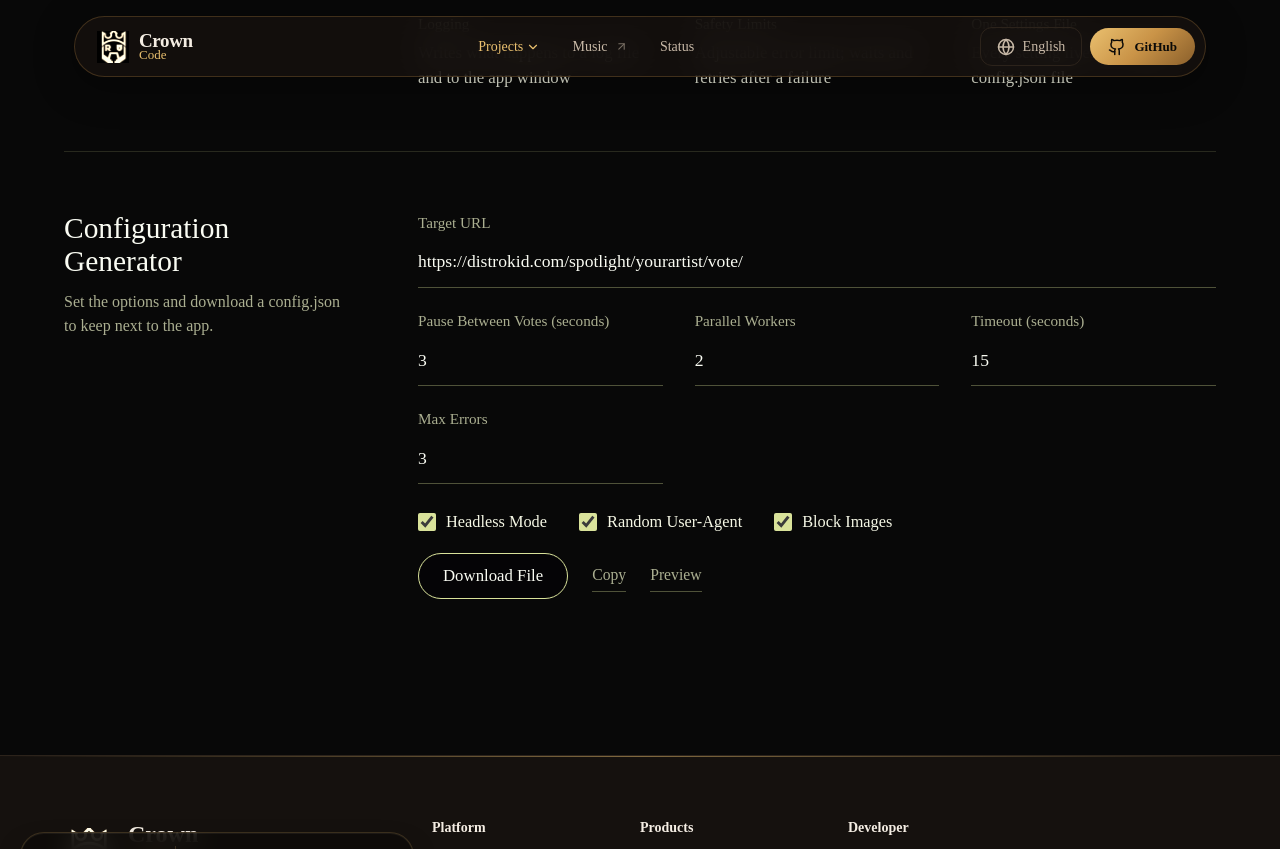
Scenario: Crown Vote page › will not offer a config for an address that is not a URL
(page scrolled)
Replace the text in the field labelled "Target URL" with "not a url" at coordinates (817, 264), box [418, 240, 1216, 288]
(page scrolled)
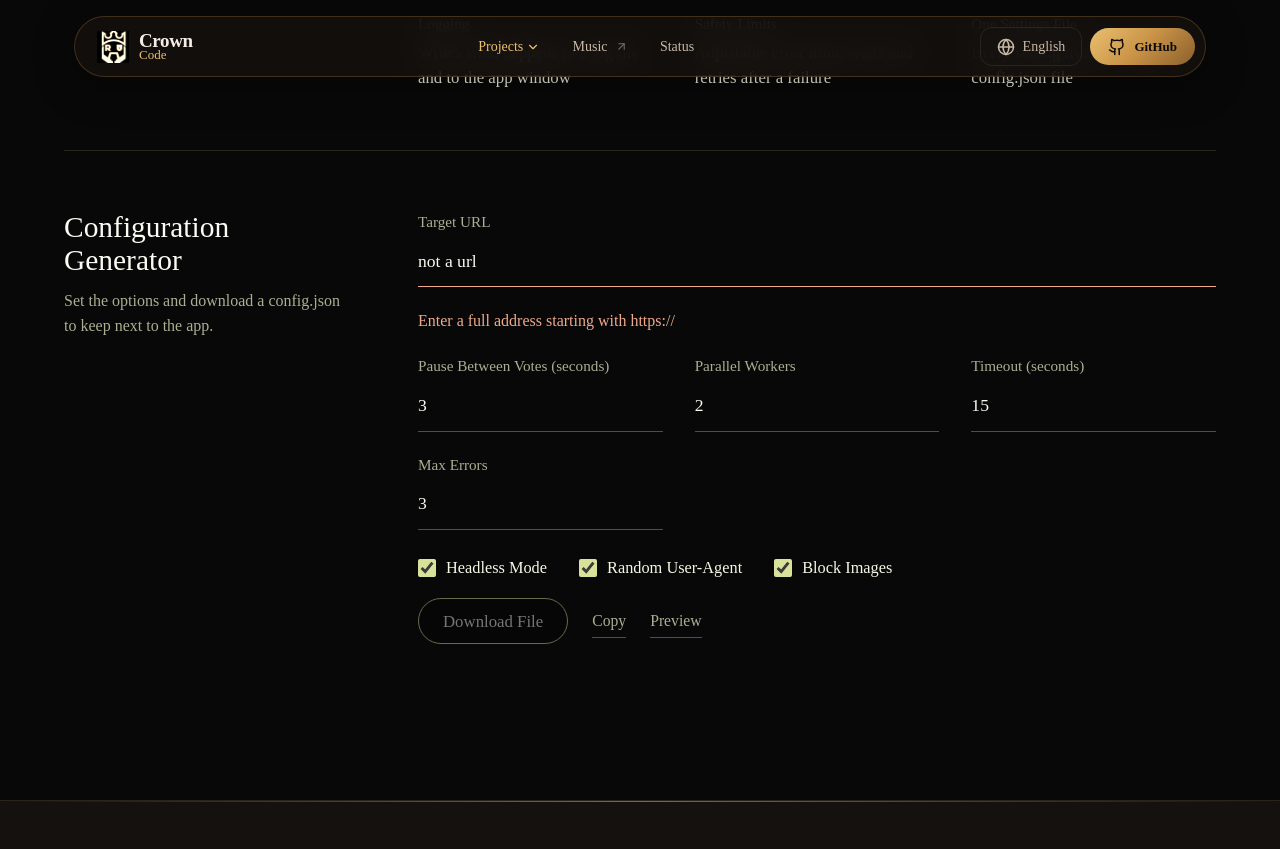
Expected: the button "Download File" is disabled, [418, 598, 568, 644]
Expected: the text "Enter a full address starting with https://" is shown, [418, 312, 675, 329]
